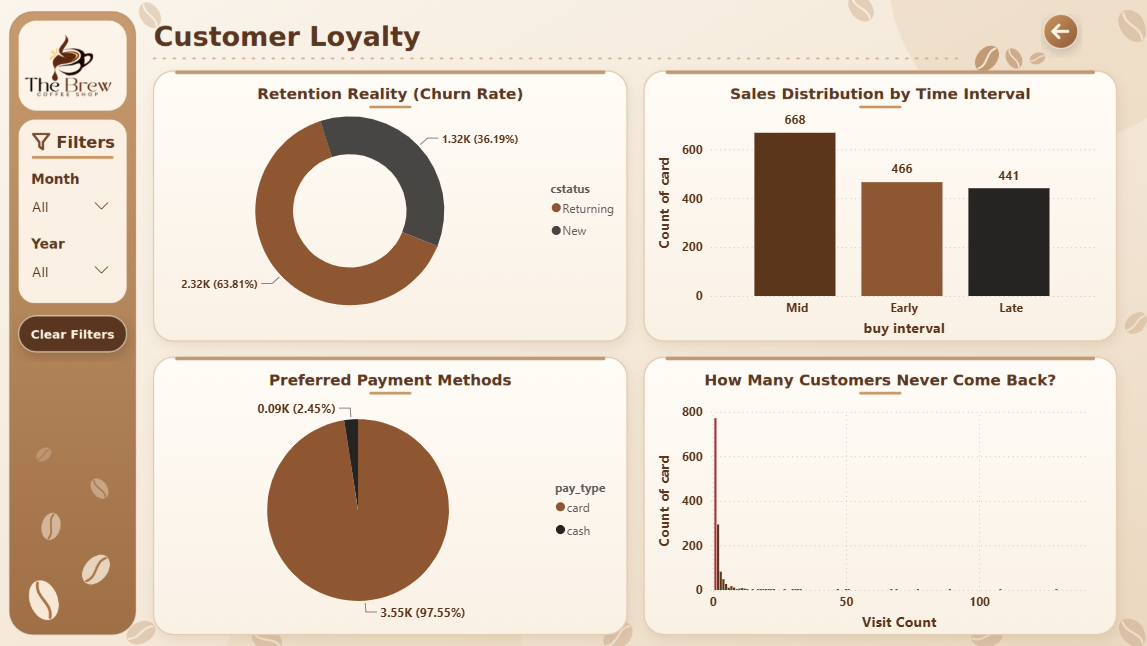

Layout of this report page (visuals, bound fields, positions):
{"tool":"powerbi","page":{"name":"Customer Loyalty","canvas":[1280,720],"ordinal":2},"visuals":[{"type":"donutChart","title":"Retention Reality (Churn Rate)","fields":{"Category":["index_11.cstatus"],"Y":["CountNonNull(index_11.cstatus)"]},"box":[163.3,90,536.7,290],"z":0},{"type":"pieChart","title":"Preferred Payment Methods","fields":{"Category":["index_11.pay_type"],"Y":["CountNonNull(index_11.pay_type)"]},"box":[176.7,428.3,523.3,278.3],"z":1000},{"type":"clusteredColumnChart","title":"How Many Customers Never Come Back?","fields":{"Category":["index_11.Visit Count"],"Y":["Count(index_11.card)"]},"box":[728.3,443.3,498.3,263.3],"z":2000},{"type":"clusteredColumnChart","title":"Sales Distribution by Time Interval","fields":{"Category":["index_11.buy interval"],"Y":["Count(index_11.card)"]},"box":[728.3,108.3,498.3,271.7],"z":3000},{"type":"slicer","fields":{"Values":["index_11.month"]},"box":[23.3,203.3,116.7,51.1],"z":3001},{"type":"slicer","fields":{"Values":["index_11.Year"]},"box":[23.3,275.6,116.7,50],"z":3002},{"type":"actionButton","box":[1158,16,46,40],"z":3003},{"type":"actionButton","box":[23.3,356.7,116.7,35],"z":3004}]}

Visuals, with their boxes in screenshot pixels (x1, y1, x2, y2), scaled from the page's 1280x720 canvas onto the 1147x646 screenshot:
"Retention Reality (Churn Rate)" donutChart: (x1=146, y1=81, x2=627, y2=341)
"Preferred Payment Methods" pieChart: (x1=158, y1=384, x2=627, y2=634)
"How Many Customers Never Come Back?" clusteredColumnChart: (x1=653, y1=398, x2=1099, y2=634)
"Sales Distribution by Time Interval" clusteredColumnChart: (x1=653, y1=97, x2=1099, y2=341)
slicer - index_11.month: (x1=21, y1=182, x2=125, y2=228)
slicer - index_11.Year: (x1=21, y1=247, x2=125, y2=292)
actionButton: (x1=1038, y1=14, x2=1079, y2=50)
actionButton: (x1=21, y1=320, x2=125, y2=351)
